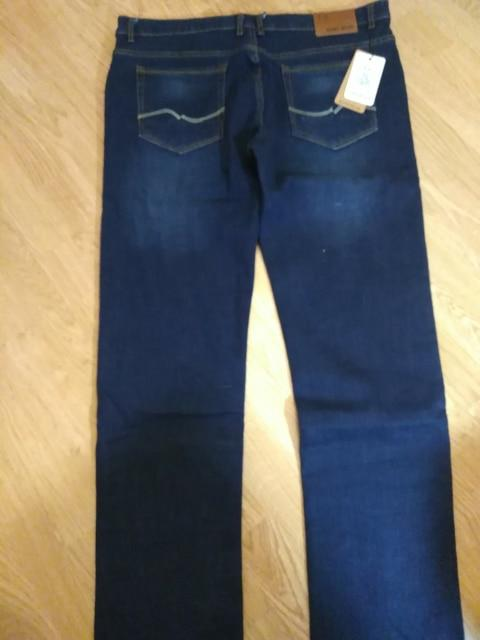jeans: (86, 15, 457, 640)
